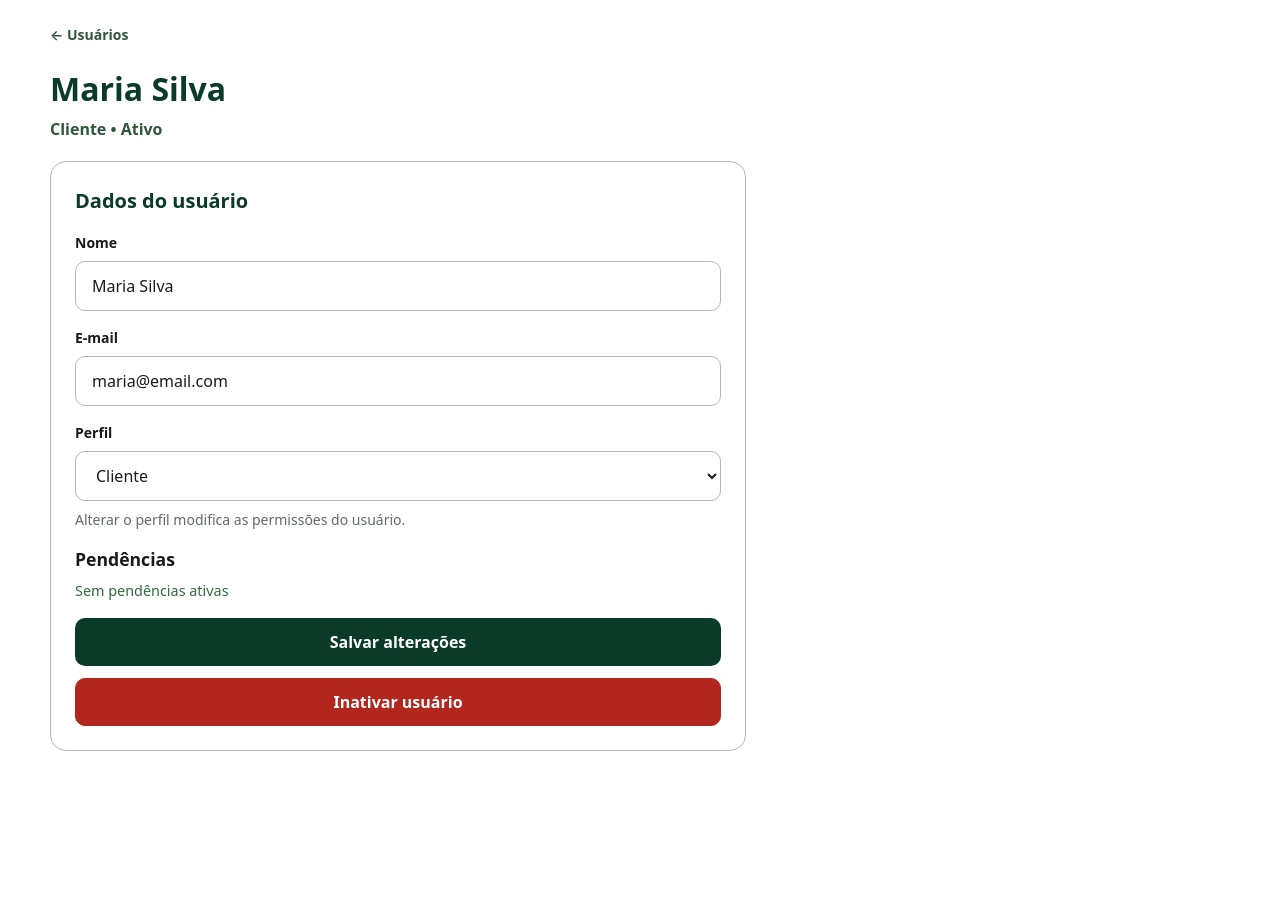
Test case: UserEditComponent › mostra erro de domínio (e-mail duplicado) e não anuncia sucesso
Replace the text in the field with id "user-email" with "outra@email.com": (398, 381) [76,357,720,405]
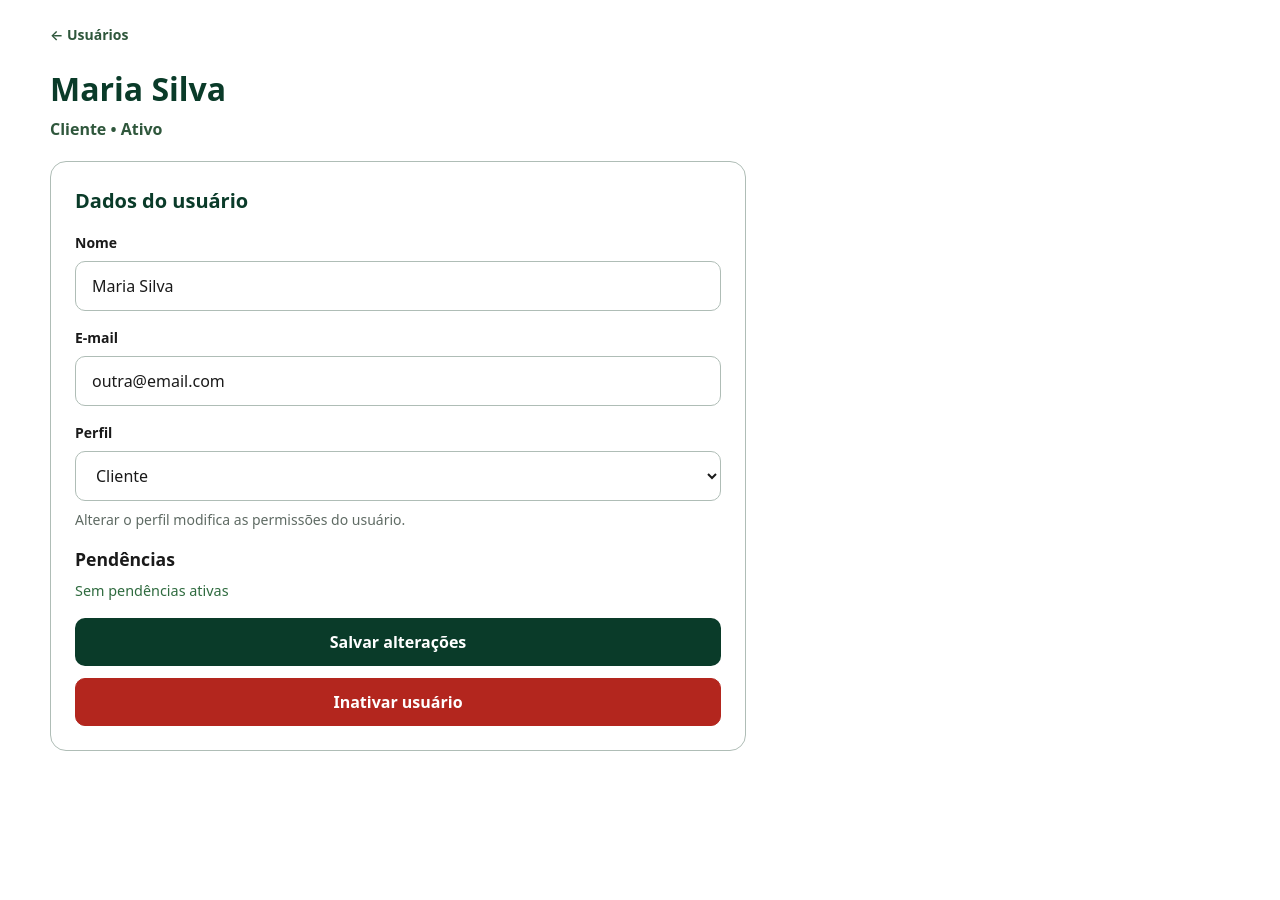
Click the button "Salvar alterações": (398, 642) [75,618,721,666]
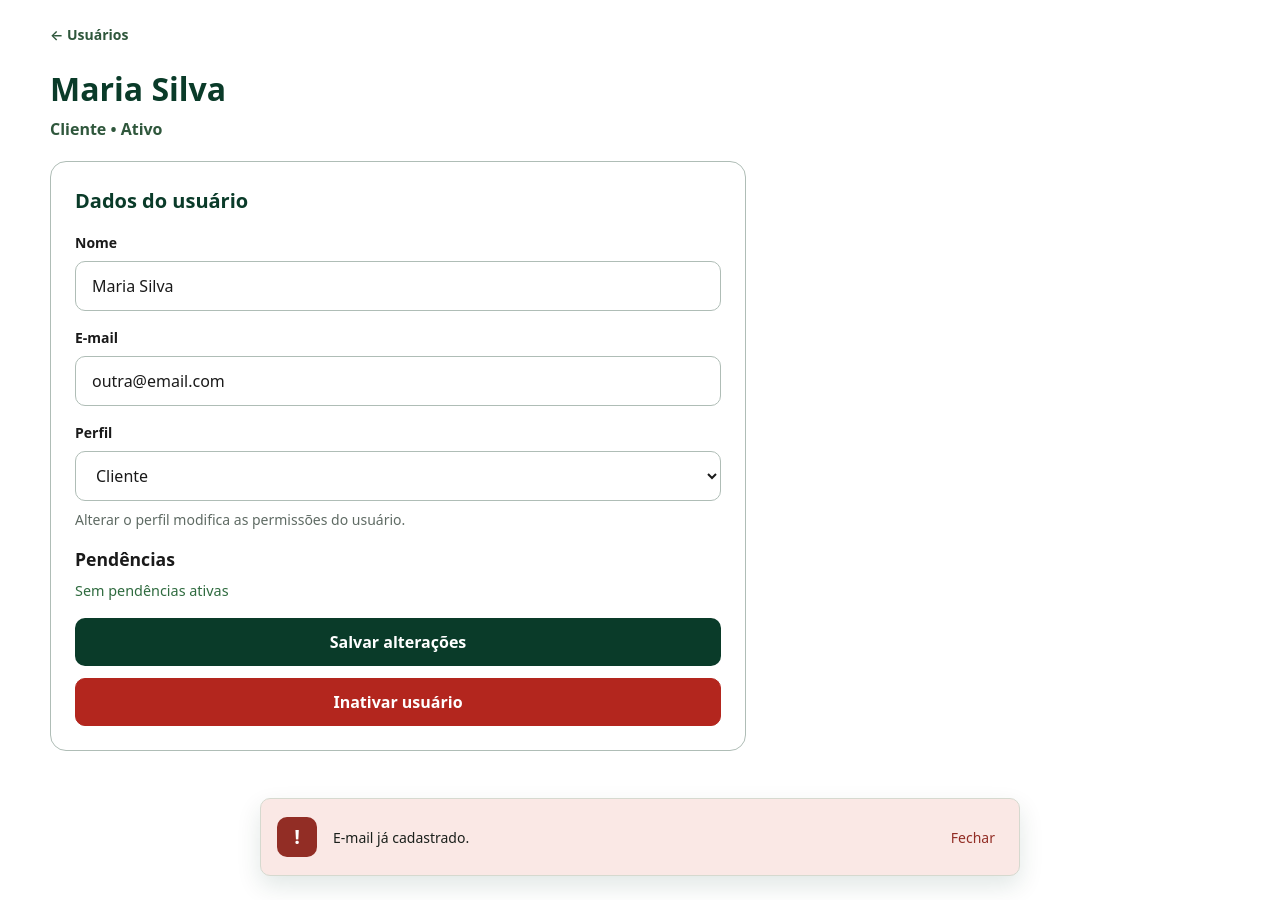
Check: the text "E-mail já cadastrado." is shown, box [333,828,469,846]
